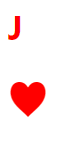card_j_hart: (1, 1, 78, 143)
